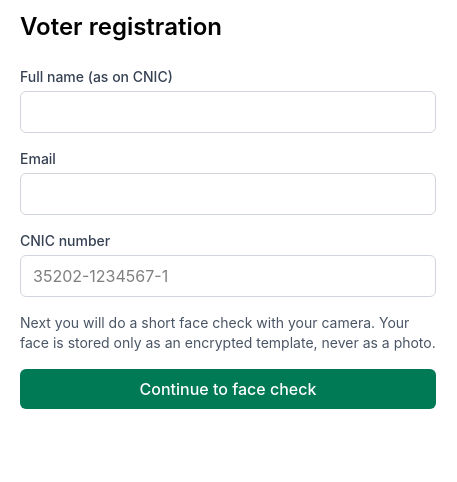
Test: an incomplete CNIC is caught before the camera starts
Type "Aisha Ishfaq" into the field labelled "Full name (as on CNIC)" at coordinates (228, 112), box [20, 91, 436, 133]
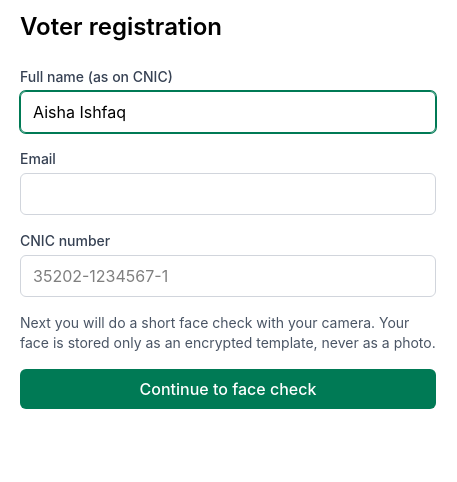
Type "aisha@example.com" into the field labelled "Email" at coordinates (228, 194), box [20, 173, 436, 215]
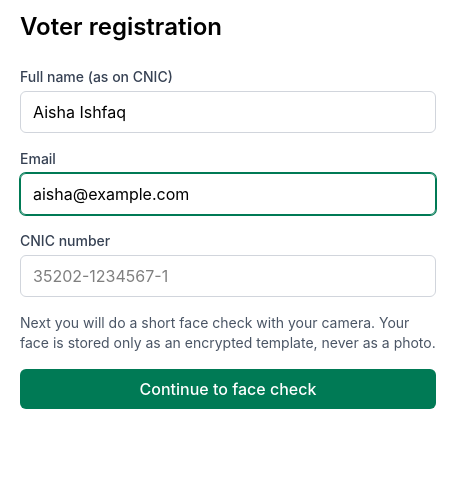
Type "35202123" into the field labelled "CNIC number" at coordinates (228, 276), box [20, 255, 436, 297]
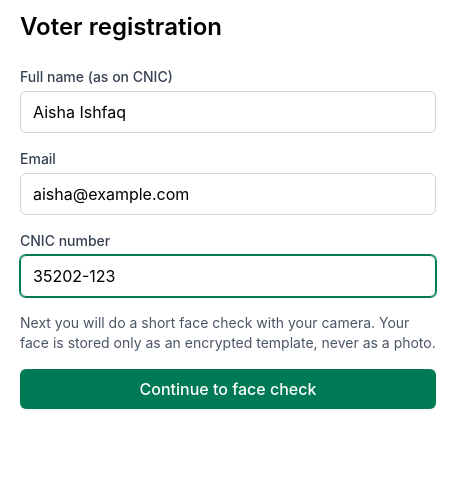
Click the button "Continue to face check" at coordinates (228, 389), box [20, 369, 436, 409]
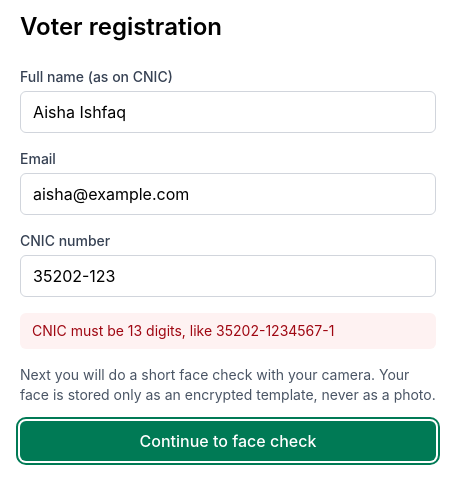
Check: the message shows "CNIC must be 13 digits", box [32, 322, 334, 339]
